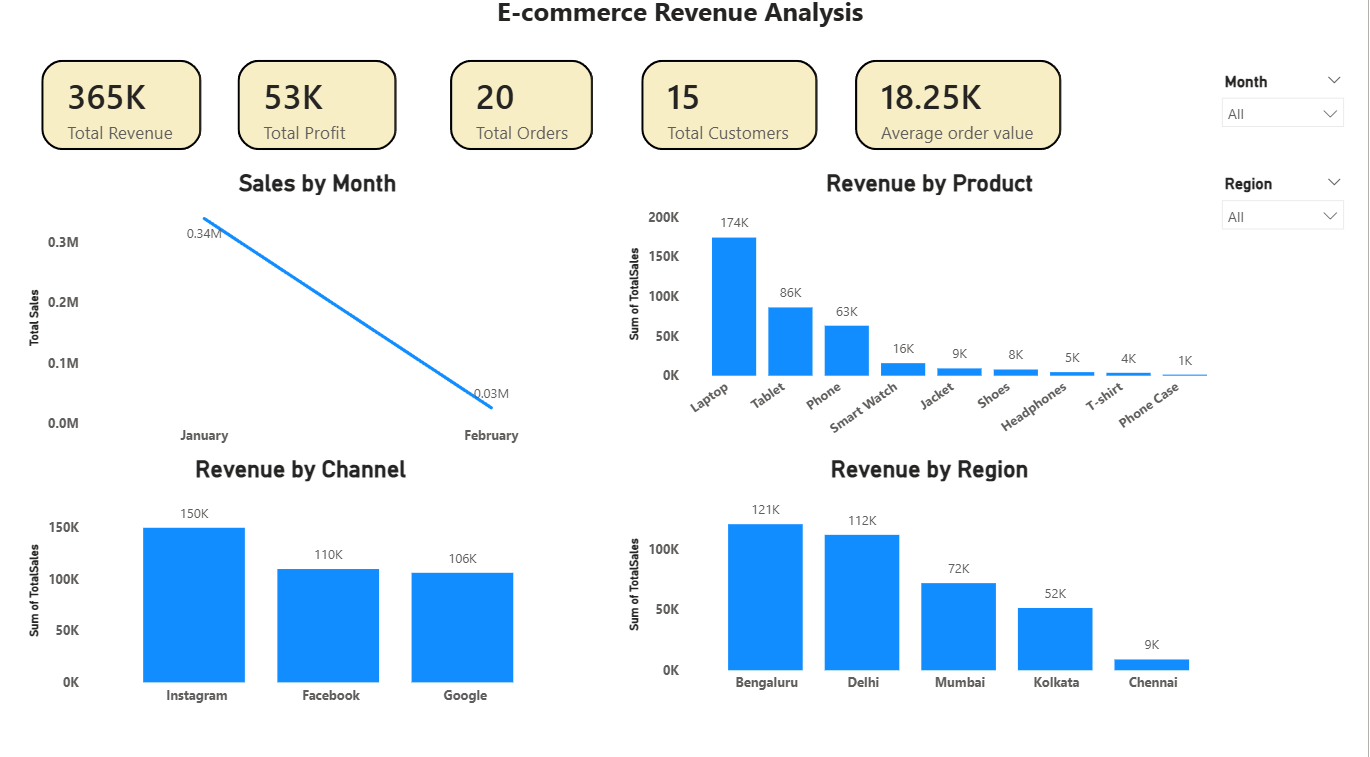

What the dashboard file says about the page in this screenshot:
{"tool":"powerbi","page":{"name":"Sales Dashboard","canvas":[1280,720],"ordinal":0},"visuals":[{"type":"cardVisual","fields":{"Data":["Sum(ecommerce_data csv.TotalSales)"]},"box":[28.8,50,183.8,118.8],"z":0},{"type":"cardVisual","fields":{"Data":["Sum(ecommerce_data csv.TotalProfit)"]},"box":[211.2,50,182.5,118.8],"z":1000},{"type":"cardVisual","fields":{"Data":["CountNonNull(ecommerce_data csv.OrderID)"]},"box":[408.8,50,167.5,118.8],"z":2000},{"type":"cardVisual","fields":{"Data":["Count(ecommerce_data csv.CustomerID)"]},"box":[587.5,50,198.8,118.8],"z":3000},{"type":"cardVisual","fields":{"Data":["Avg(ecommerce_data csv.TotalSales)"]},"box":[786.2,50,226.2,118.8],"z":4000},{"type":"lineChart","title":"Sales by Month","fields":{"Category":["ecommerce_data csv.OrderDate.Variation.Date Hierarchy.Month"],"Y":["Sum(ecommerce_data csv.TotalSales)"]},"box":[28.8,168.8,547.5,266.2],"z":5000},{"type":"columnChart","title":"Revenue by Channel","fields":{"Category":["ecommerce_data csv.Channel"],"Y":["Sum(ecommerce_data csv.TotalSales)"]},"box":[28.8,435,516.2,241.2],"z":6000},{"type":"columnChart","title":"Revenue by Product","fields":{"Y":["Sum(ecommerce_data csv.TotalSales)"],"Category":["ecommerce_data csv.Product"]},"box":[587.5,168.8,570,266.2],"z":7000},{"type":"columnChart","title":"Revenue by Region","fields":{"Y":["Sum(ecommerce_data csv.TotalSales)"],"Category":["ecommerce_data csv.Region"]},"box":[587.5,435,570,230],"z":8000},{"type":"textbox","box":[0,0,1280,50],"z":9000},{"type":"slicer","fields":{"Values":["ecommerce_data csv.OrderDate.Variation.Date Hierarchy.Month"]},"box":[1133.8,73.8,133.8,73.8],"z":10000},{"type":"slicer","fields":{"Values":["ecommerce_data csv.Region"]},"box":[1133.8,168.8,133.8,73.8],"z":10001}]}

Visuals, with their boxes in screenshot pixels (x1, y1, x2, y2), scaled from the page's 1280x720 canvas onto the 1370x757 screenshot:
cardVisual - Sum(ecommerce_data csv.TotalSales): box(31, 53, 228, 177)
cardVisual - Sum(ecommerce_data csv.TotalProfit): box(226, 53, 421, 177)
cardVisual - CountNonNull(ecommerce_data csv.OrderID): box(438, 53, 617, 177)
cardVisual - Count(ecommerce_data csv.CustomerID): box(629, 53, 842, 177)
cardVisual - Avg(ecommerce_data csv.TotalSales): box(841, 53, 1084, 177)
"Sales by Month" lineChart: box(31, 177, 617, 457)
"Revenue by Channel" columnChart: box(31, 457, 583, 711)
"Revenue by Product" columnChart: box(629, 177, 1239, 457)
"Revenue by Region" columnChart: box(629, 457, 1239, 699)
textbox: box(0, 0, 1369, 53)
slicer - ecommerce_data csv.OrderDate.Variation.Date Hierarchy.Month: box(1214, 78, 1357, 155)
slicer - ecommerce_data csv.Region: box(1214, 177, 1357, 255)
